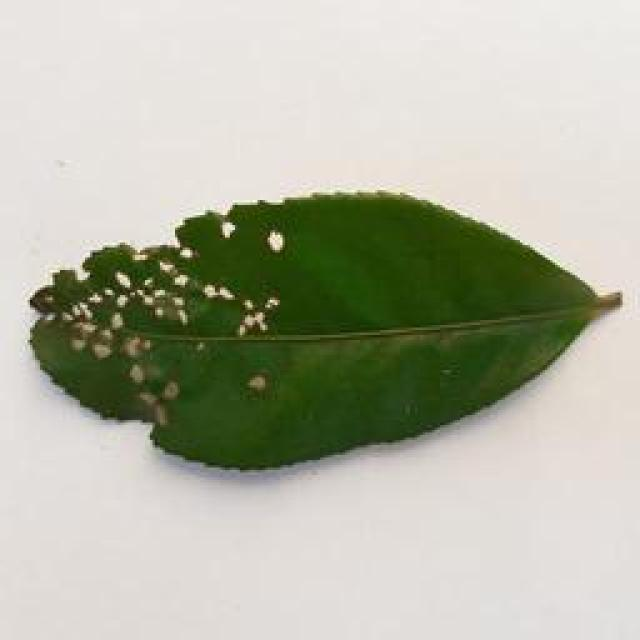Helopeltis: (18, 180, 640, 483)
